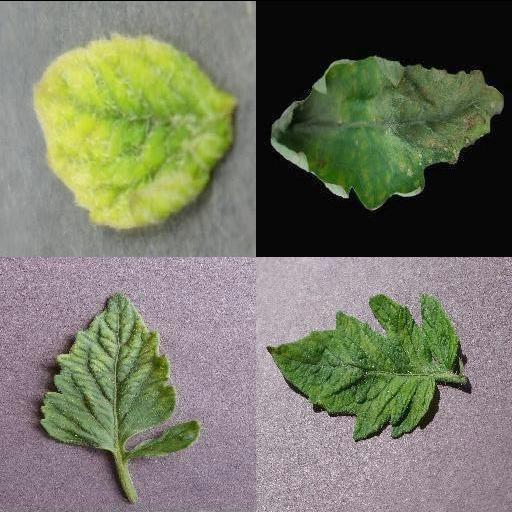Late Blight: (272, 53, 504, 209)
Mosaic Virus: (264, 293, 460, 443), (36, 289, 202, 459)
Yellow Leaf Curl Virus: (33, 32, 233, 231)
